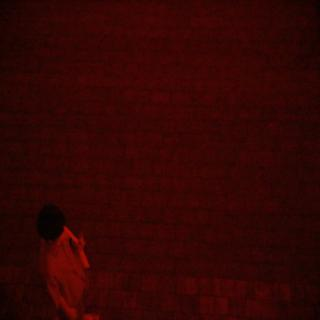person: (23, 199, 106, 320)
